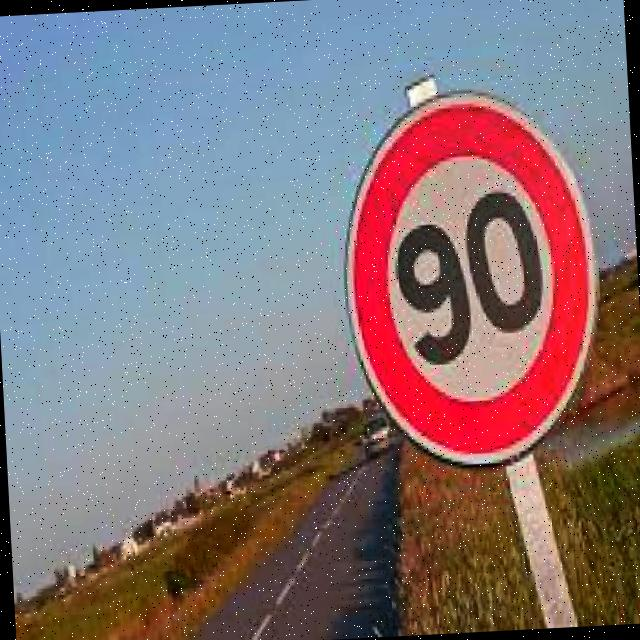Ograniczenie predkosci do 90: (338, 84, 604, 468)
